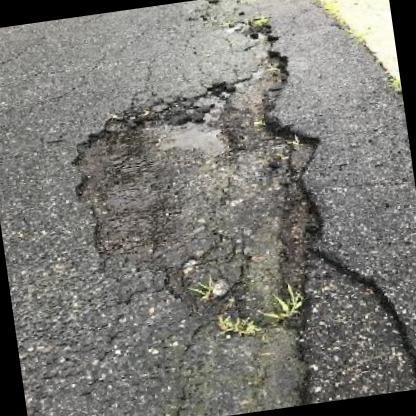pothole: (52, 14, 352, 357)
